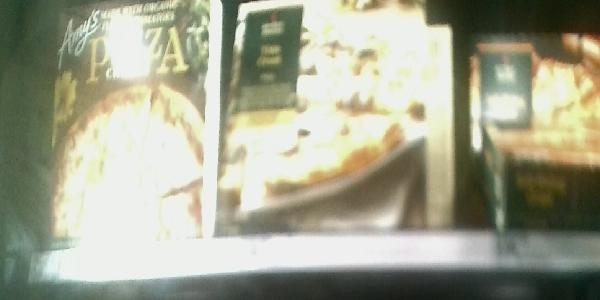pizza1: (219, 1, 433, 229), (49, 1, 212, 234)
